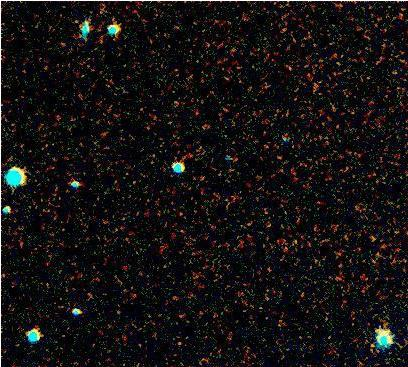star: (277, 125, 307, 155)
